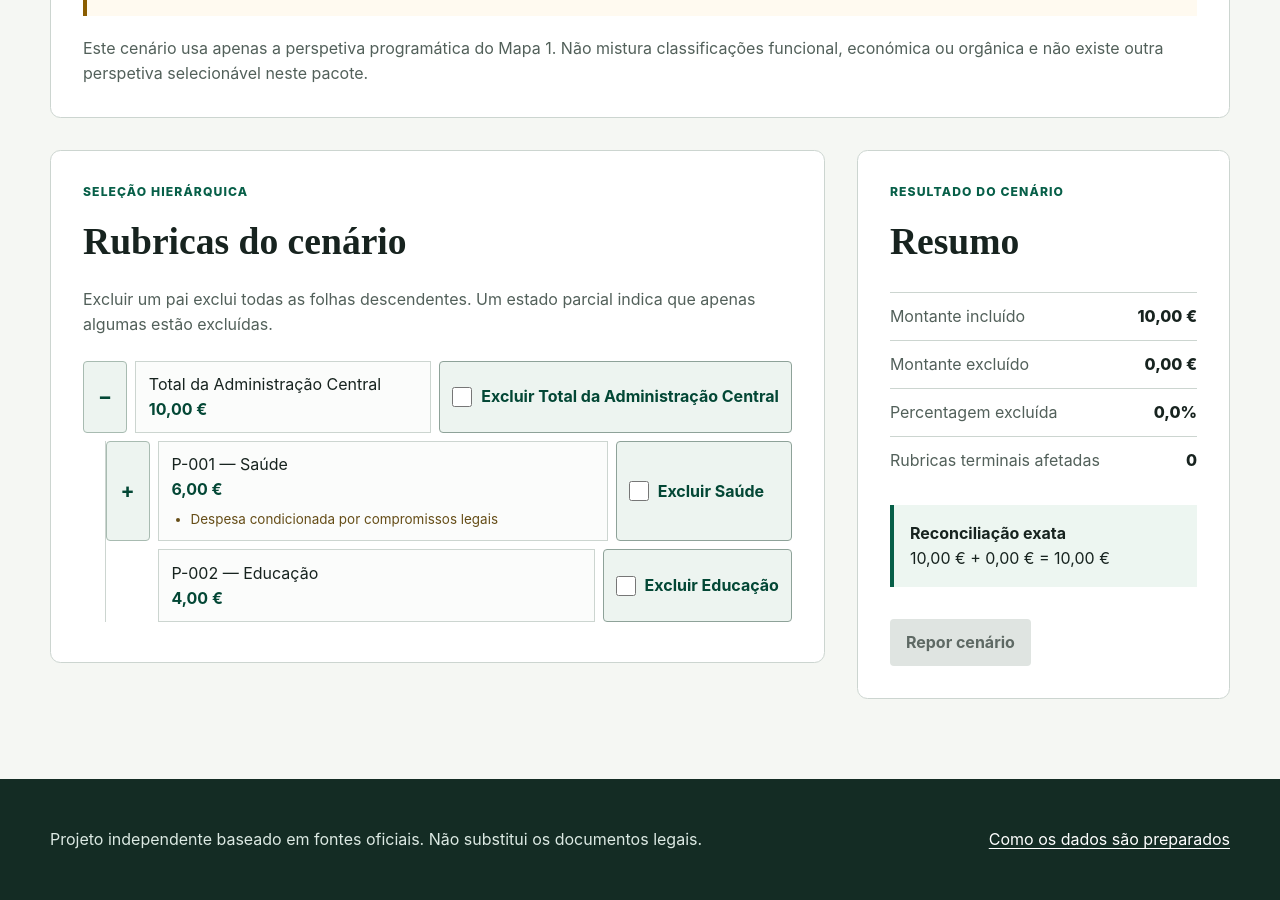
Scenario: SimulatorPage › exclui um pai sem dupla contagem e permite reset acessível
(page scrolled)
Expected: the heading "Rubricas do cenário" is shown, [83,221,407,262]
Expected: the button "Repor cenário" is disabled, [890,619,1031,666]
What coordinates should you click on to do the following:
click the checkbox labelled "Excluir Saúde"
I would click on:
 (639, 491)
Its box is [629,481,649,501].
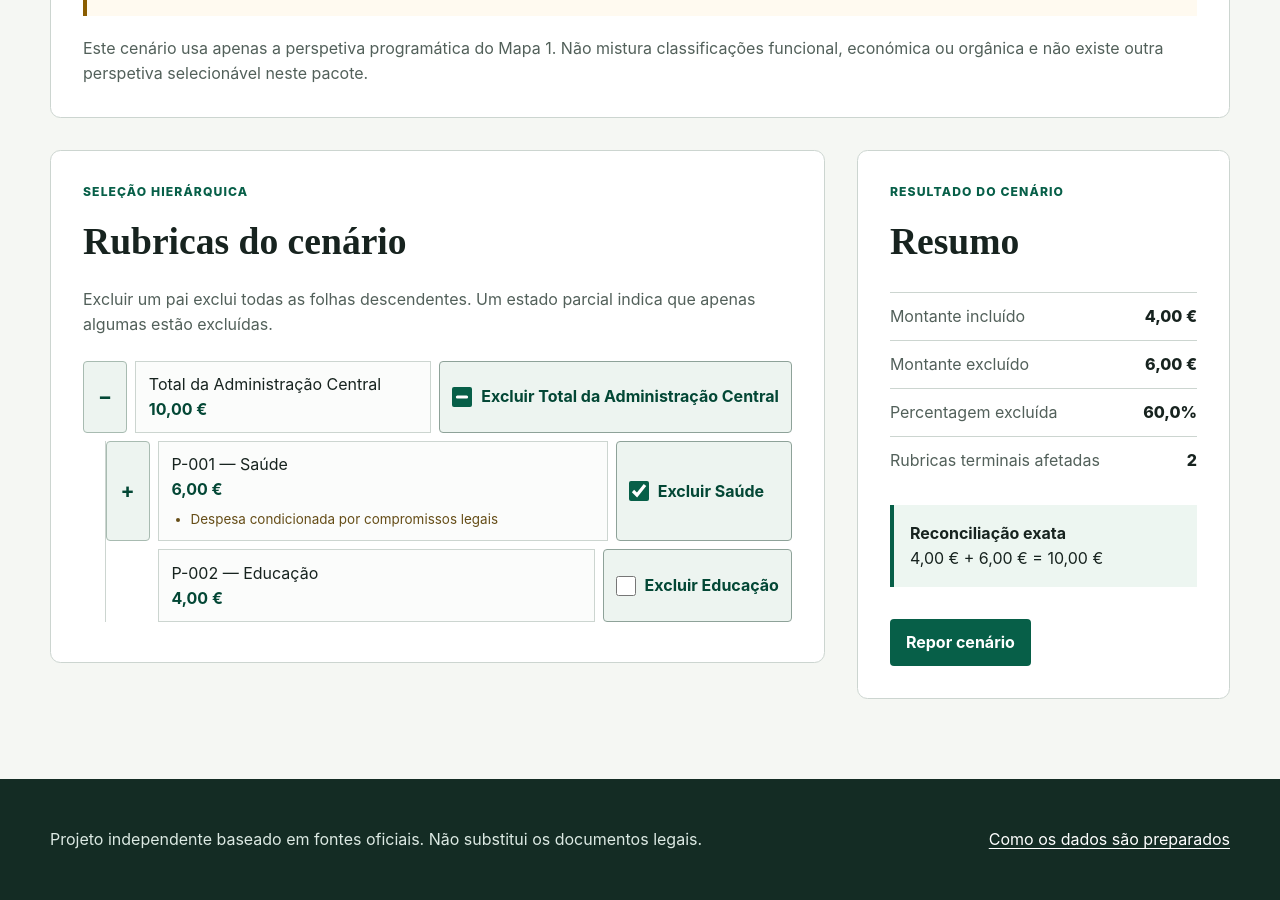
Expected: the checkbox labelled "Excluir Saúde" is checked, [629,481,649,501]
Expected: the text "2" is shown, [1187,448,1197,473]
Expected: the button "Repor cenário" is enabled
What coordinates should you click on to do the following:
click the button "Repor cenário"
I would click on:
 (960, 642)
Its box is [890,619,1031,666].
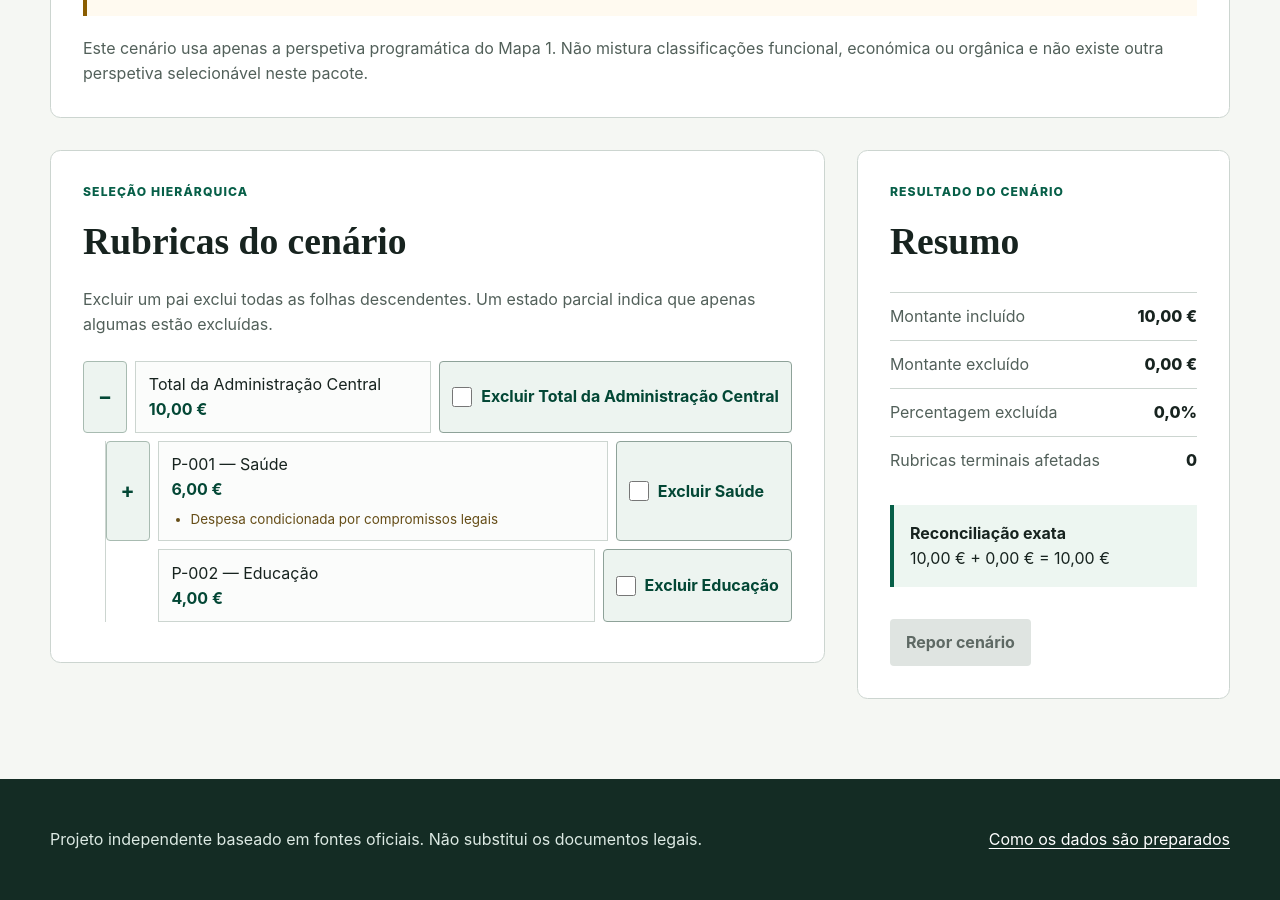
Expected: the checkbox labelled "Excluir Saúde" is not checked, [629,481,649,501]
Expected: the button "Repor cenário" is disabled, [890,619,1031,666]
